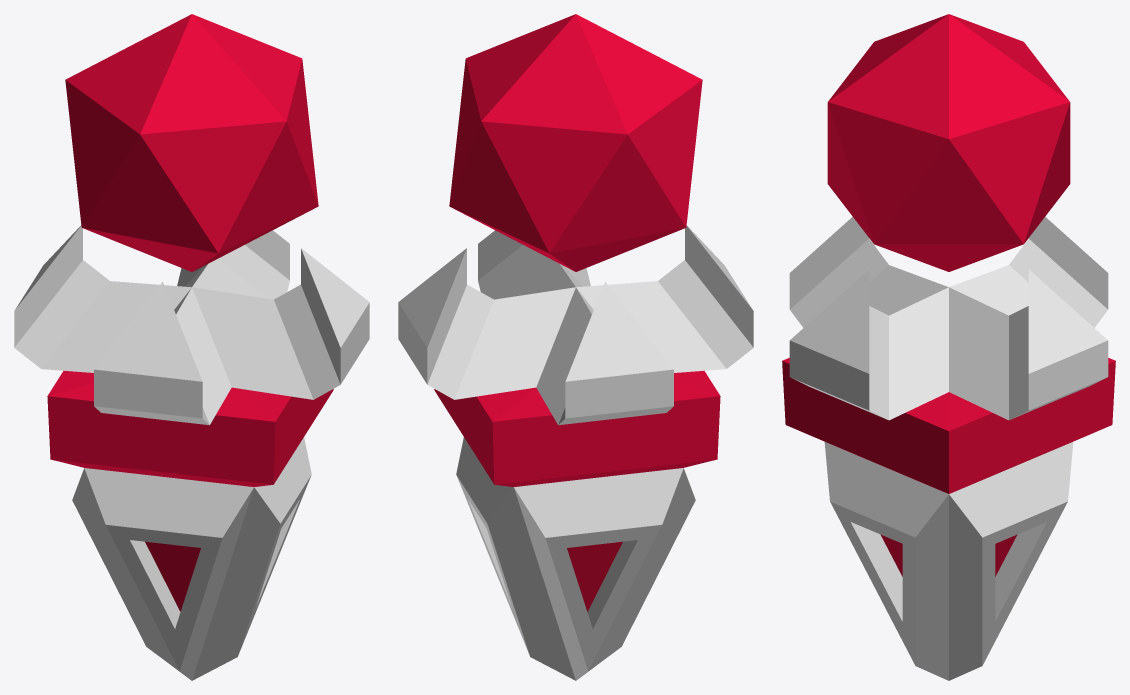
Rendered from enemy.fbx.
The picture shows the model from 3 angles, left to right: view 1: azimuth 30°, elevation 25°; view 2: azimuth 150°, elevation 25°; view 3: azimuth 270°, elevation 25°; orthographic projection.
Parts seen in each view (by area): view 1: Cone; view 2: Cone; view 3: Cone.
Boxes of the visible parts, <box> form: Cone: <box>14,14,369,680</box>; Cone: <box>398,14,753,680</box>; Cone: <box>782,14,1115,680</box>.
Size of the model in its own units: 126 by 279 by 126.
